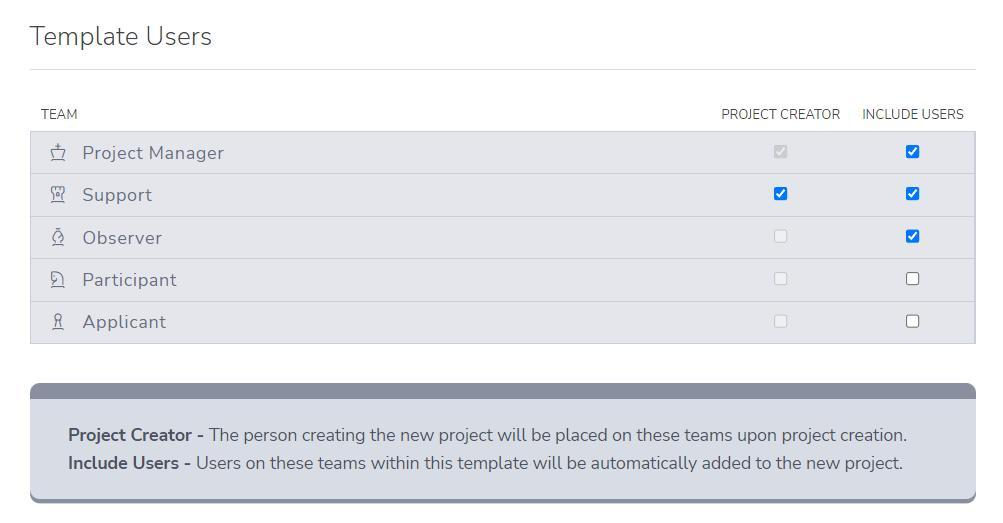checkbox: (775, 146, 789, 160), (907, 230, 921, 244), (907, 146, 921, 159), (775, 315, 788, 329), (907, 273, 920, 287), (907, 315, 920, 329), (775, 188, 788, 201), (907, 188, 920, 201), (775, 231, 788, 244), (775, 273, 788, 286)
icon: (49, 142, 73, 165), (48, 224, 69, 249), (49, 186, 71, 206), (49, 271, 69, 292), (52, 311, 66, 333)
label: (80, 143, 228, 165), (80, 265, 182, 296), (82, 311, 169, 339), (80, 227, 165, 250), (81, 182, 157, 207)
table: (32, 133, 978, 346)
